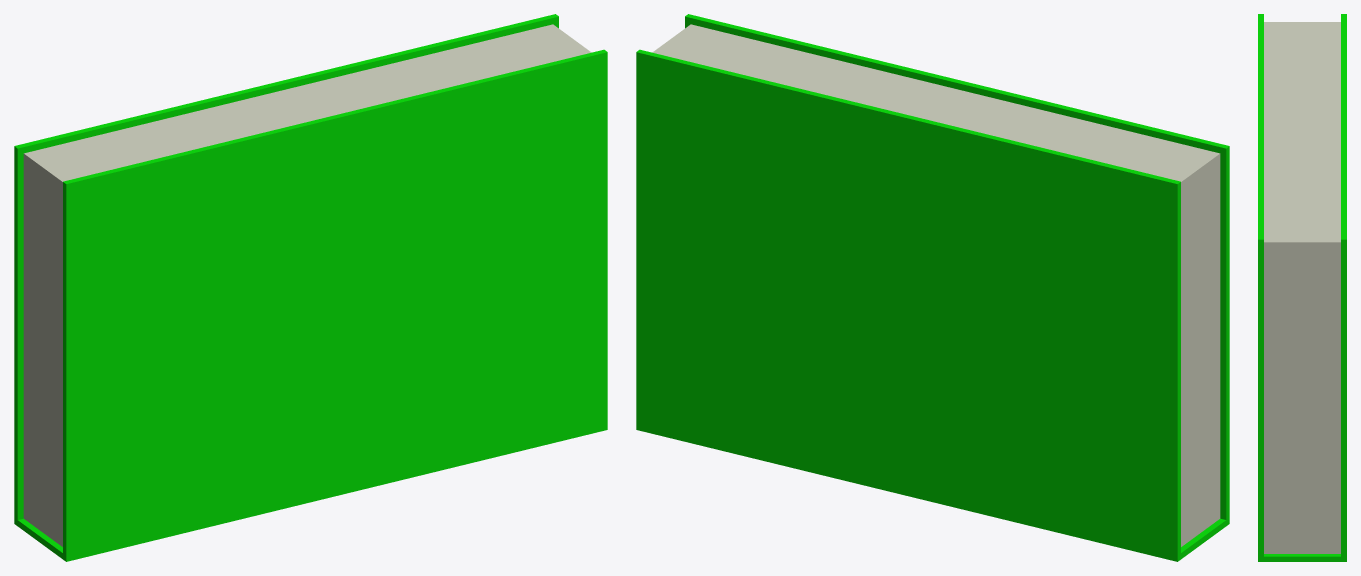
Rendered from greenbook.fbx.
3 views of the same model, side by side, from view 1: azimuth 30°, elevation 25°; view 2: azimuth 150°, elevation 25°; view 3: azimuth 270°, elevation 25° (orthographic). The views are drawn at different scales.
Visible parts, largest first — view 1: bok1; view 2: bok1; view 3: bok1.
Part boxes in pixels (box(x1,y1,x2,y2)): bok1: box(14, 14, 607, 561); bok1: box(636, 14, 1229, 561); bok1: box(1258, 14, 1346, 561).
Bounding box in the file's own units: 18000 × 12000 × 3000.
